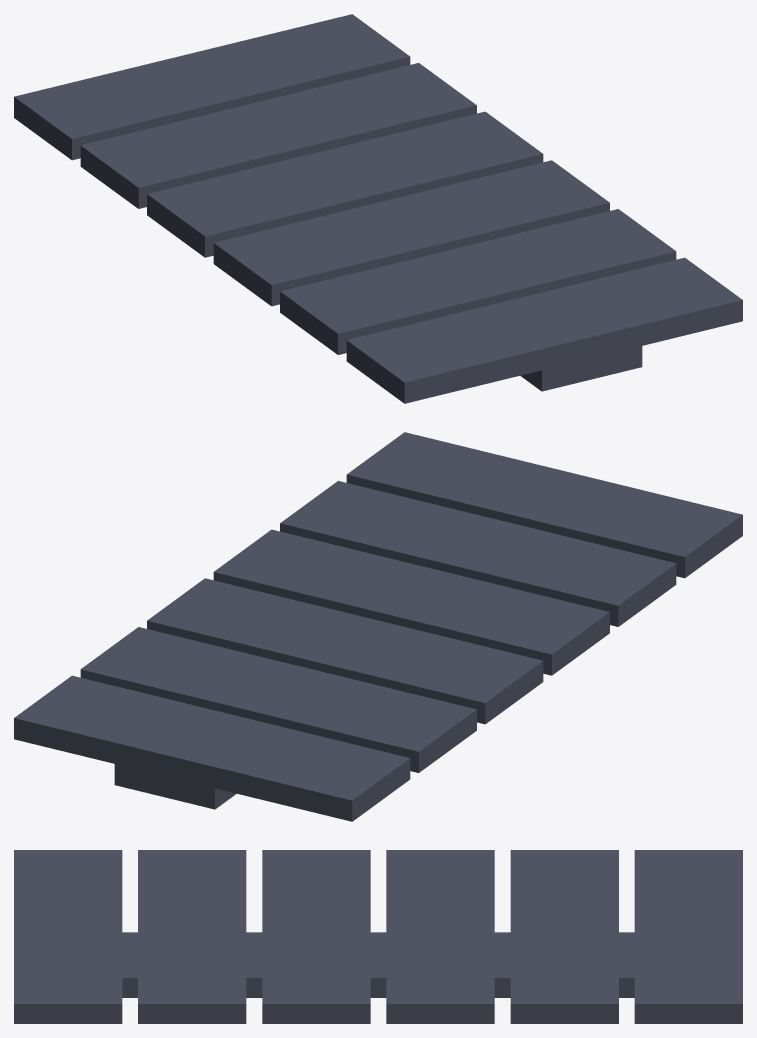
The model's file is planks-half.glb.
3 renders of one model, top to bottom at view 1: azimuth 30°, elevation 25°; view 2: azimuth 150°, elevation 25°; view 3: azimuth 270°, elevation 25°, orthographic. The views are drawn at different scales.
Parts seen in each view (by area): view 1: planks-half; view 2: planks-half; view 3: planks-half.
Boxes of the visible parts, left/top/right/bottom form: planks-half: left=14, top=14, right=742, bottom=403; planks-half: left=14, top=432, right=742, bottom=821; planks-half: left=14, top=850, right=742, bottom=1023.
Size of the model in its own units: 0.5 by 0.06 by 1.
Materials: 1 (1 with a texture image).
